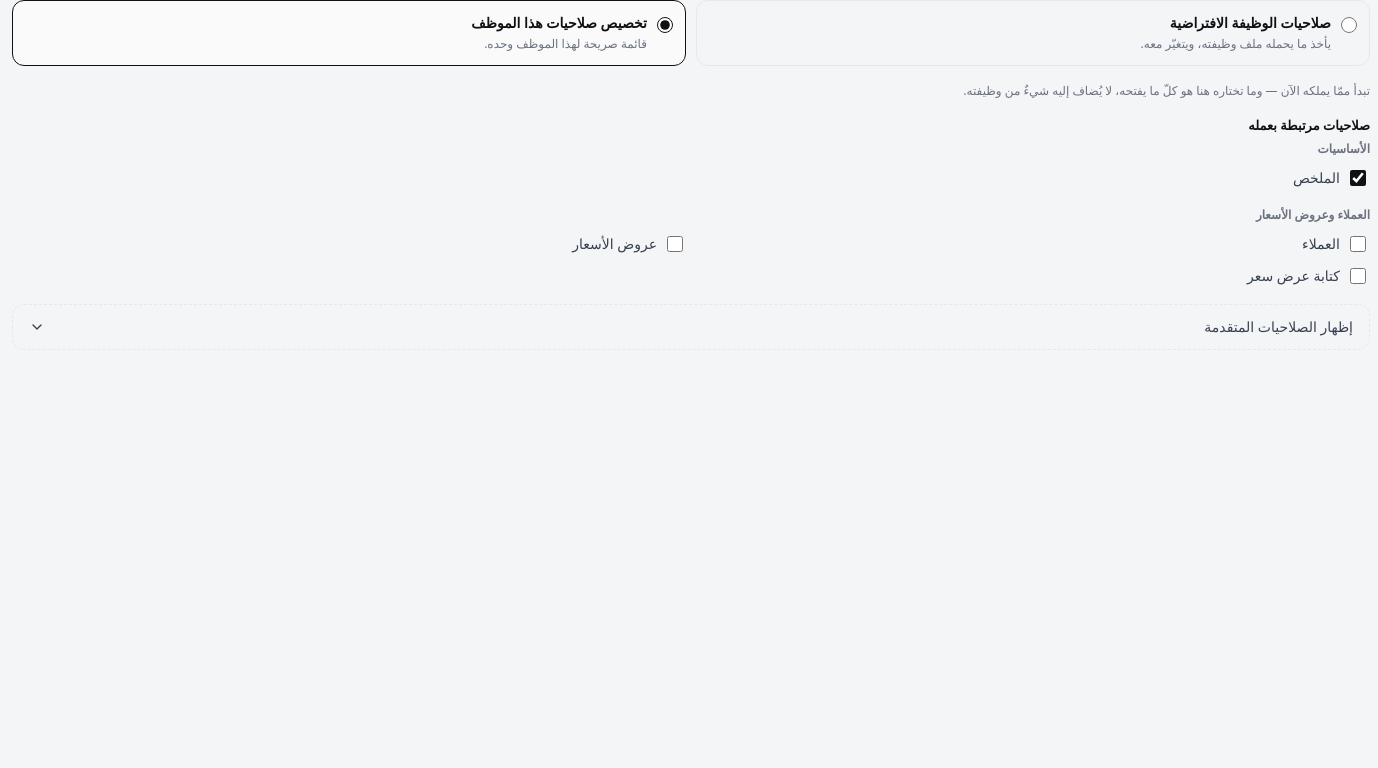
Test: EmployeePermissions › disables what the actor cannot grant and says why
This screenshot has width=1378, height=768.
Click the button "إظهار الصلاحيات المتقدمة".
click(1279, 326)  # box top-left (13, 304), bottom-right (1369, 348)
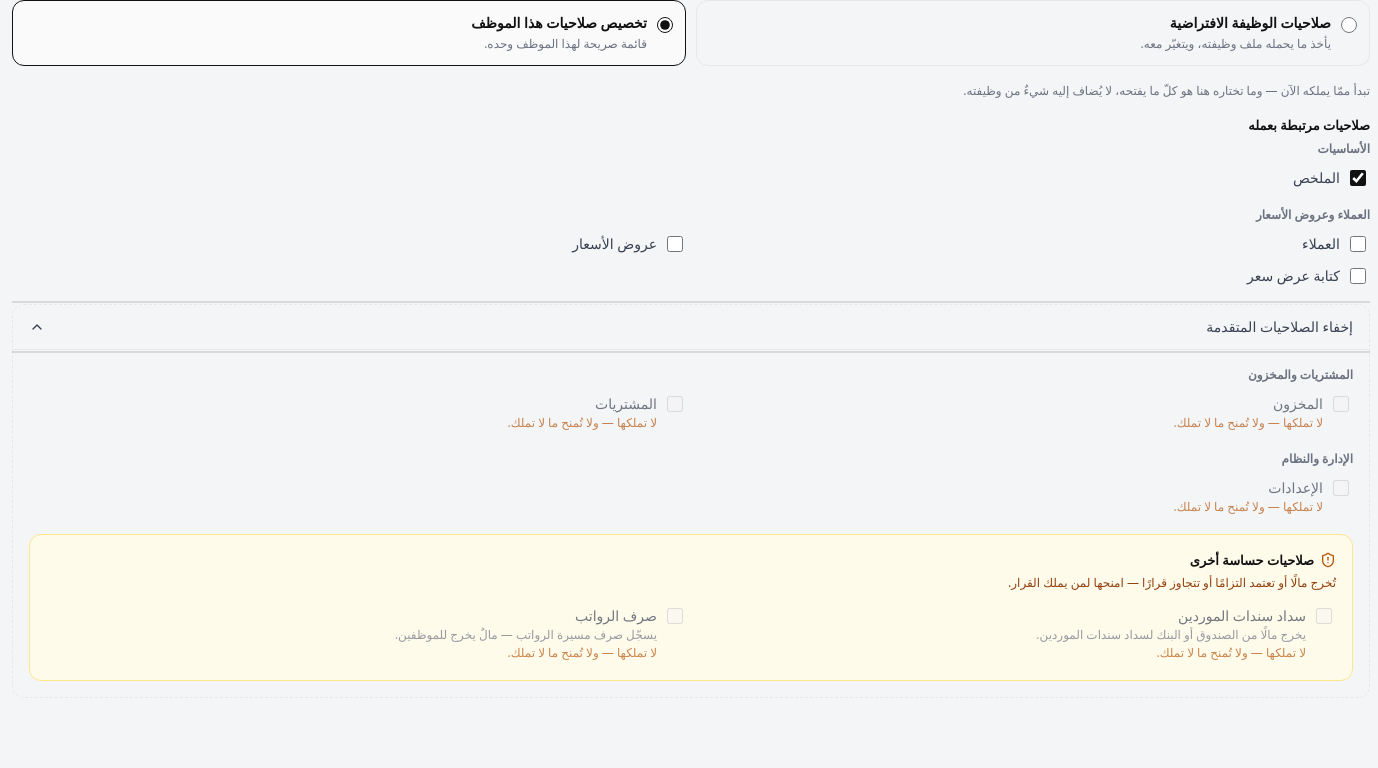
expect the checkbox labelled "عروض الأسعار" is enabled: met, box top-left (667, 236), bottom-right (683, 252)
expect the checkbox labelled "الإعدادات لا تملكها — ولا تُمنح ما لا تملك." is disabled: met, box top-left (1333, 480), bottom-right (1349, 496)
expect the label "الإعدادات لا تملكها — ولا تُمنح ما لا تملك." is shown: met, box top-left (1174, 478), bottom-right (1349, 514)
